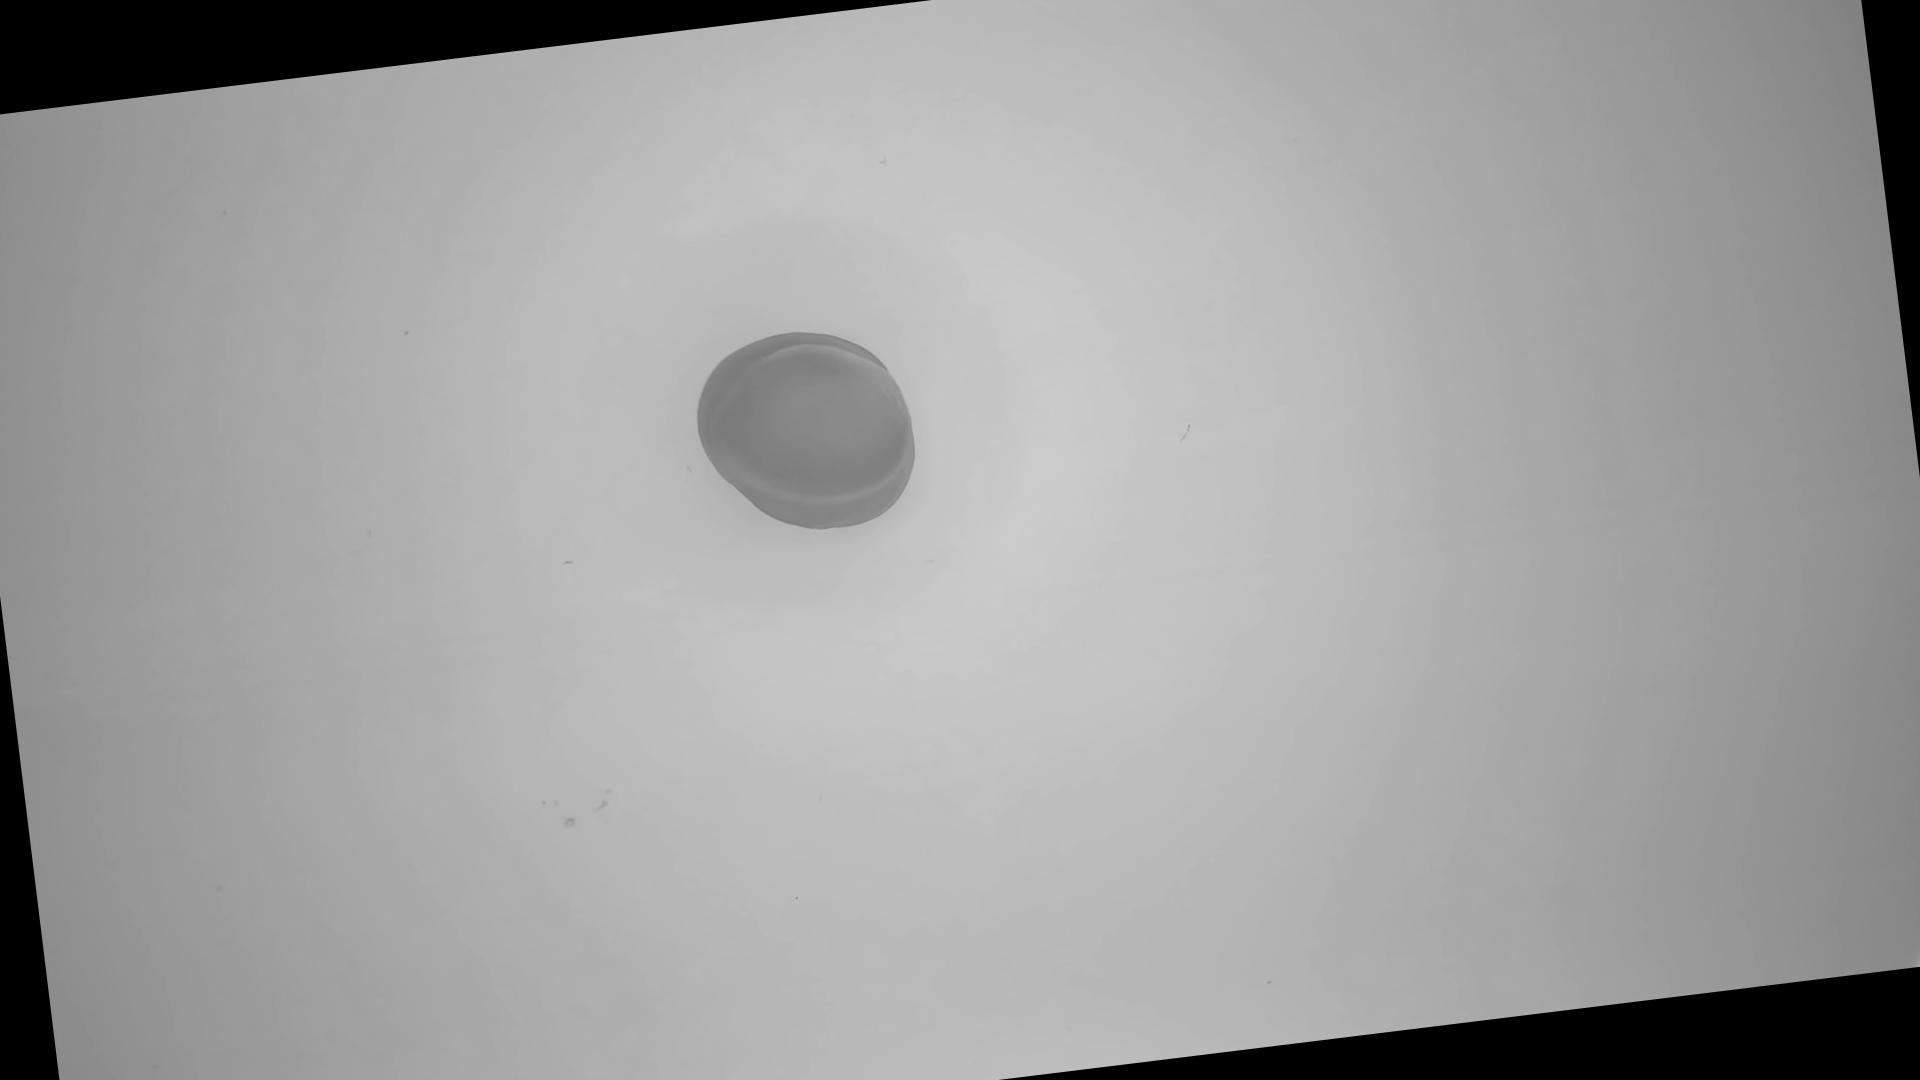abnormal: (688, 316, 930, 545)
